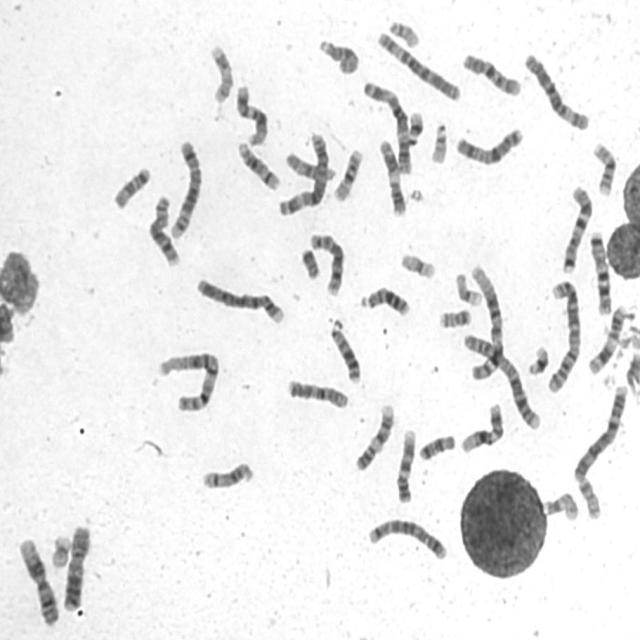A1: (467, 259, 505, 382), (154, 347, 221, 413)
A2: (460, 328, 542, 432), (543, 276, 583, 395)
A3: (359, 76, 414, 176), (275, 129, 330, 217)
B4: (570, 381, 629, 483), (192, 273, 288, 327)
B5: (364, 514, 449, 562), (166, 135, 204, 241)
C10: (460, 49, 522, 98), (284, 376, 350, 410)
C11: (584, 300, 629, 376), (376, 136, 407, 218)
C12: (457, 398, 505, 454), (232, 81, 269, 146)
C6: (373, 26, 462, 102), (520, 49, 591, 132)
C7: (559, 181, 595, 275), (587, 227, 614, 316)
C8: (145, 191, 182, 268), (306, 228, 346, 298)
C9: (352, 399, 396, 473), (393, 425, 418, 505)
D13: (326, 314, 362, 384), (357, 282, 411, 318)
D14: (234, 137, 282, 192), (198, 458, 255, 491)
D15: (282, 147, 338, 183), (315, 34, 361, 75)
E16: (330, 144, 364, 203), (590, 138, 618, 198)
E17: (207, 39, 234, 106), (534, 488, 580, 526)
E18: (110, 162, 152, 211), (415, 431, 457, 462)
F19: (397, 249, 438, 280), (452, 269, 483, 308)
F20: (574, 475, 602, 520), (436, 305, 474, 330)
G21: (525, 342, 550, 376), (404, 107, 425, 145)
G22: (386, 16, 422, 49), (427, 118, 449, 166)
X: (452, 124, 525, 168)
Y: (298, 244, 322, 281)
